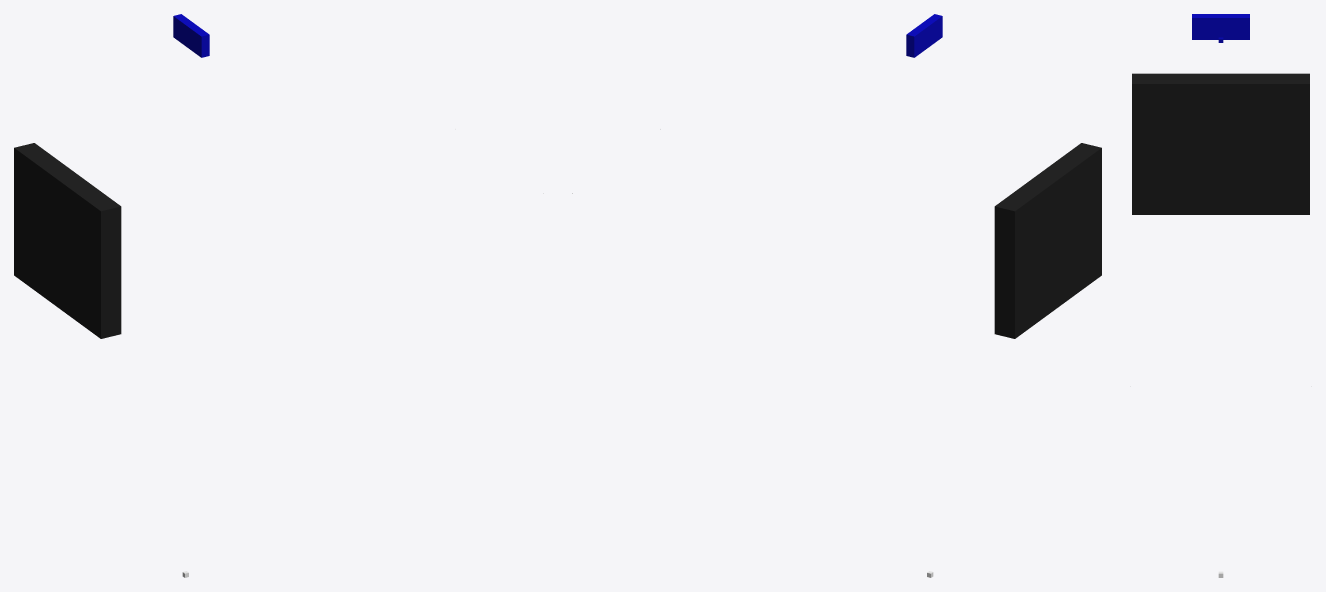
File: pr2_without_sensor.dae
3 views of the same model, side by side, from view 1: azimuth 30°, elevation 25°; view 2: azimuth 150°, elevation 25°; view 3: azimuth 270°, elevation 25° (orthographic). The views are drawn at different scales.
Parts seen in each view (by area): view 1: base_bellow_link, double_stereo_link; view 2: base_bellow_link, double_stereo_link; view 3: base_bellow_link, double_stereo_link.
Boxes of the visible parts, x1,y1,x2,y2 form: base_bellow_link: (14, 143, 121, 338); double_stereo_link: (173, 14, 209, 57); base_bellow_link: (994, 143, 1101, 338); double_stereo_link: (906, 14, 942, 57); base_bellow_link: (1132, 73, 1309, 214); double_stereo_link: (1192, 14, 1249, 39).
Bounding box in the file's own units: 1.09 × 0.377 × 1.29.
